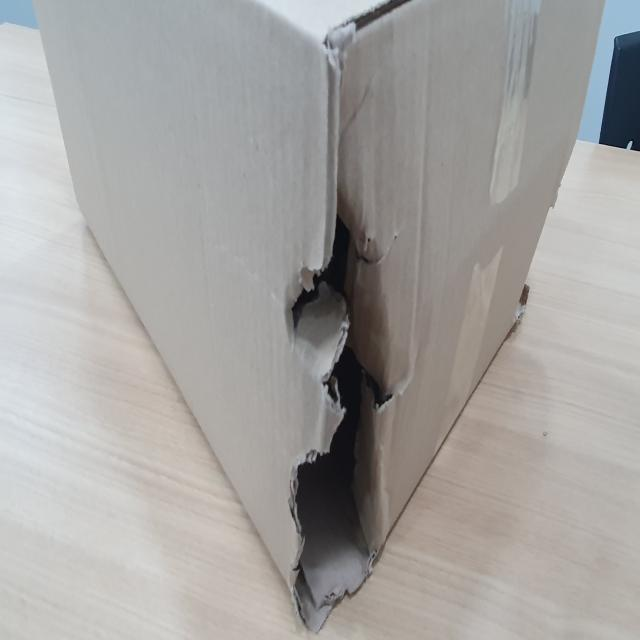hole: (268, 189, 394, 607)
